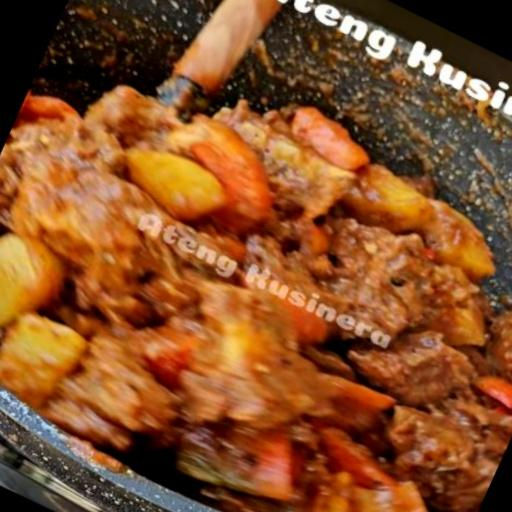pork caldereta: (0, 89, 511, 507)
